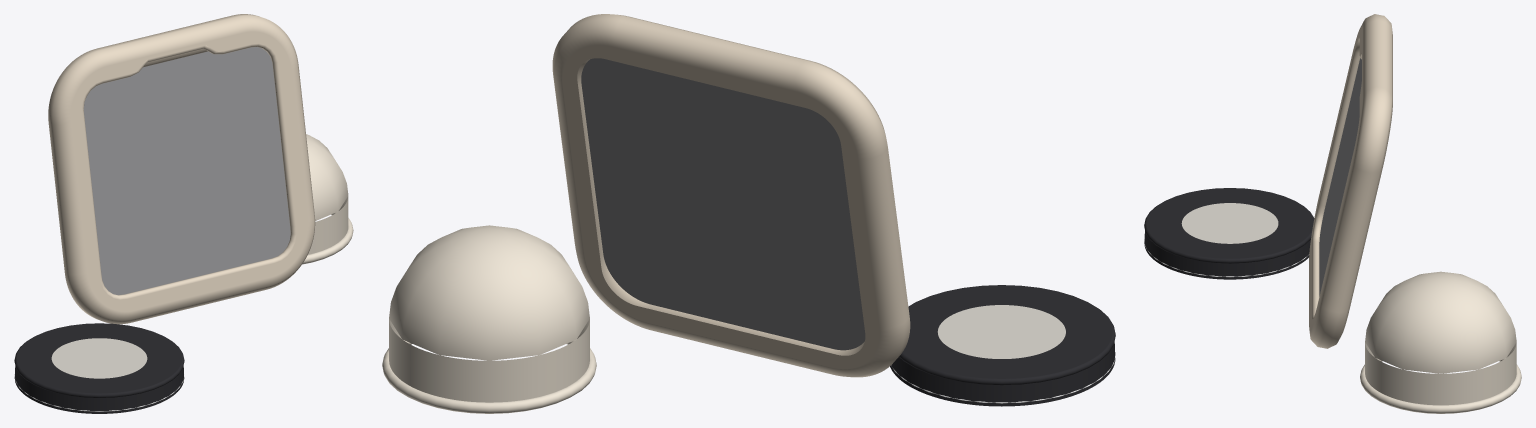
Rendered from oat.glb.
The picture shows the model from 3 angles, left to right: view 1: azimuth 30°, elevation 25°; view 2: azimuth 150°, elevation 25°; view 3: azimuth 270°, elevation 25°; orthographic projection. The views are drawn at different scales.
Parts seen in each view (by area): view 1: display-stand-in, object 3, object 1, object 11, object 4, object 12, object 9, object 6, object 5, object 10, object 7; view 2: display-stand-in, object 3, object 6, object 2, object 11, object 5, object 12, object 9, object 7, object 10; view 3: object 6, object 3, object 11, object 5, object 12, display-stand-in, object 9, object 4, object 7, object 1, object 10.
Boxes of the visible parts, x1,y1,x2,y2 form: display-stand-in: (83, 47, 290, 295); object 3: (48, 14, 315, 324); object 1: (70, 31, 307, 311); object 11: (16, 323, 182, 393); object 4: (81, 43, 296, 299); object 12: (51, 338, 147, 378); object 9: (14, 366, 184, 413); object 6: (306, 134, 348, 220); object 5: (308, 196, 348, 254); object 10: (14, 323, 184, 397); object 7: (302, 212, 353, 264); display-stand-in: (581, 58, 865, 350); object 3: (552, 14, 910, 377); object 6: (389, 225, 589, 360); object 2: (562, 45, 879, 368); object 11: (902, 285, 1112, 378); object 5: (389, 319, 589, 402); object 12: (937, 305, 1065, 358); object 9: (890, 305, 1115, 406); object 7: (382, 340, 596, 413); object 10: (899, 285, 1115, 385); object 6: (1365, 271, 1516, 373); object 3: (1309, 14, 1392, 348); object 11: (1146, 188, 1313, 258); object 5: (1365, 342, 1516, 405); object 12: (1181, 203, 1278, 243); display-stand-in: (1319, 58, 1361, 296); object 9: (1144, 231, 1310, 279); object 4: (1312, 37, 1361, 319); object 7: (1360, 358, 1521, 413); object 1: (1309, 26, 1362, 330); object 10: (1144, 188, 1314, 263).
Size of the model in its own units: 0.2847 by 0.1663 by 0.2187.
